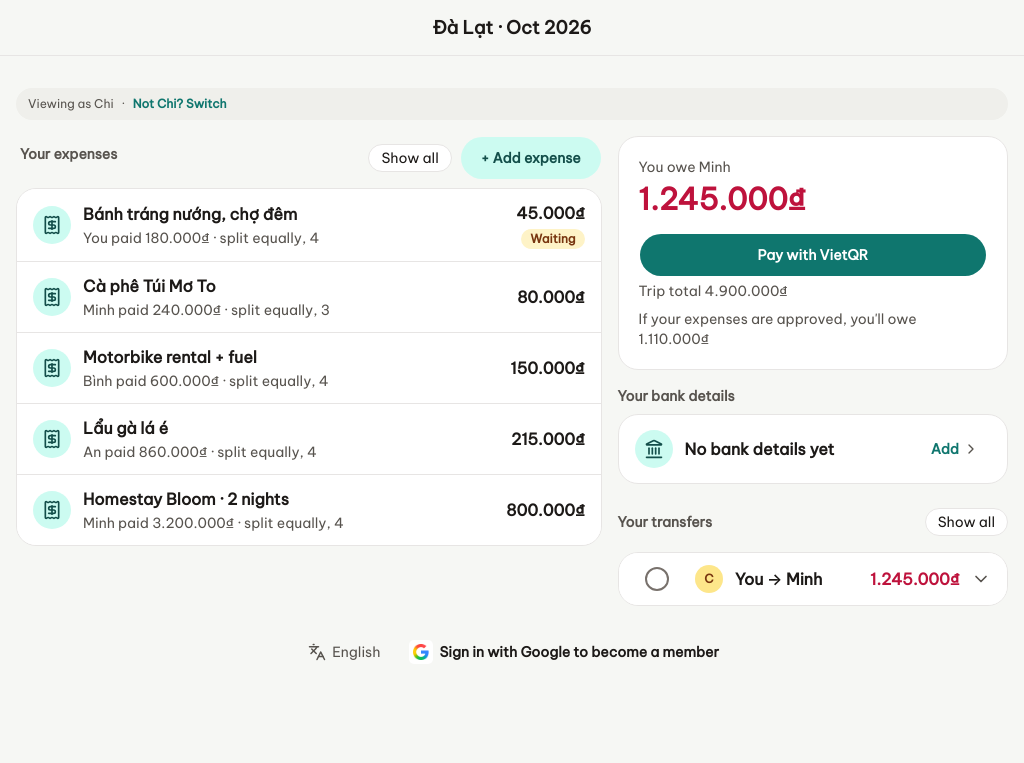
Test: guest page on a wide screen › an expense opens in the right panel, and × brings the balance back
Click the button "Bánh tráng nướng, chợ đêm": (52, 225) top-left (17, 189), bottom-right (601, 261)
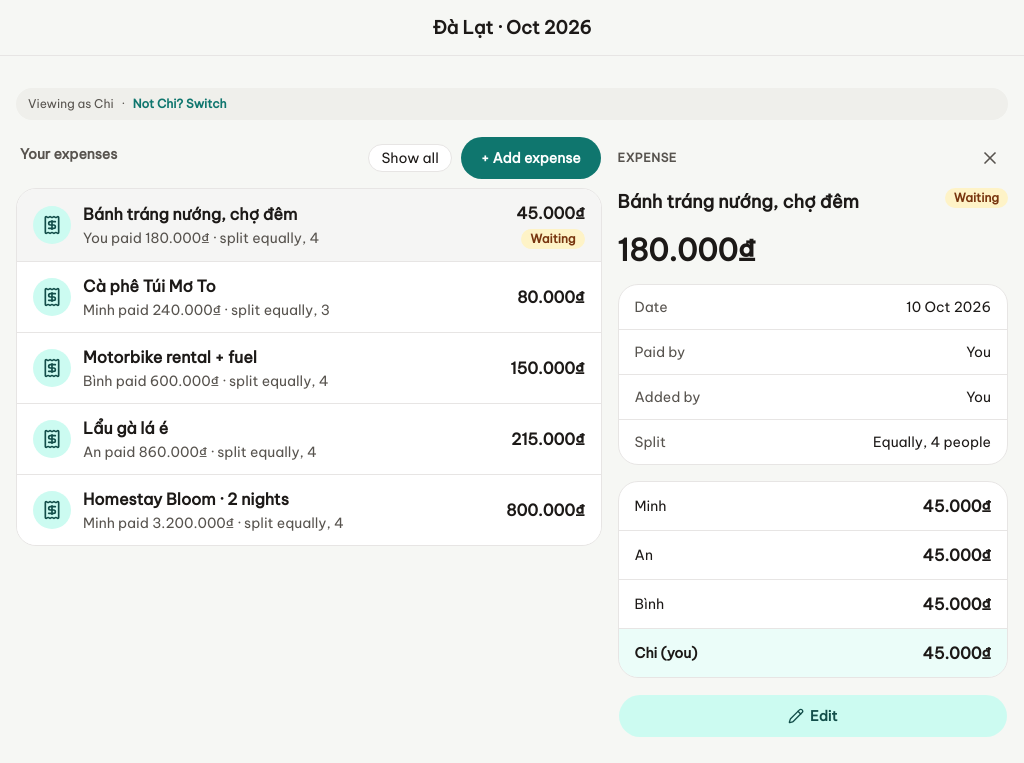
Result: the text "You owe Minh" is gone
Result: the button "Edit" is shown at top-left (618, 694), bottom-right (1008, 738)
Result: the link "Pay with VietQR" is gone
Click the button named "Close": (990, 158) top-left (968, 136), bottom-right (1012, 180)
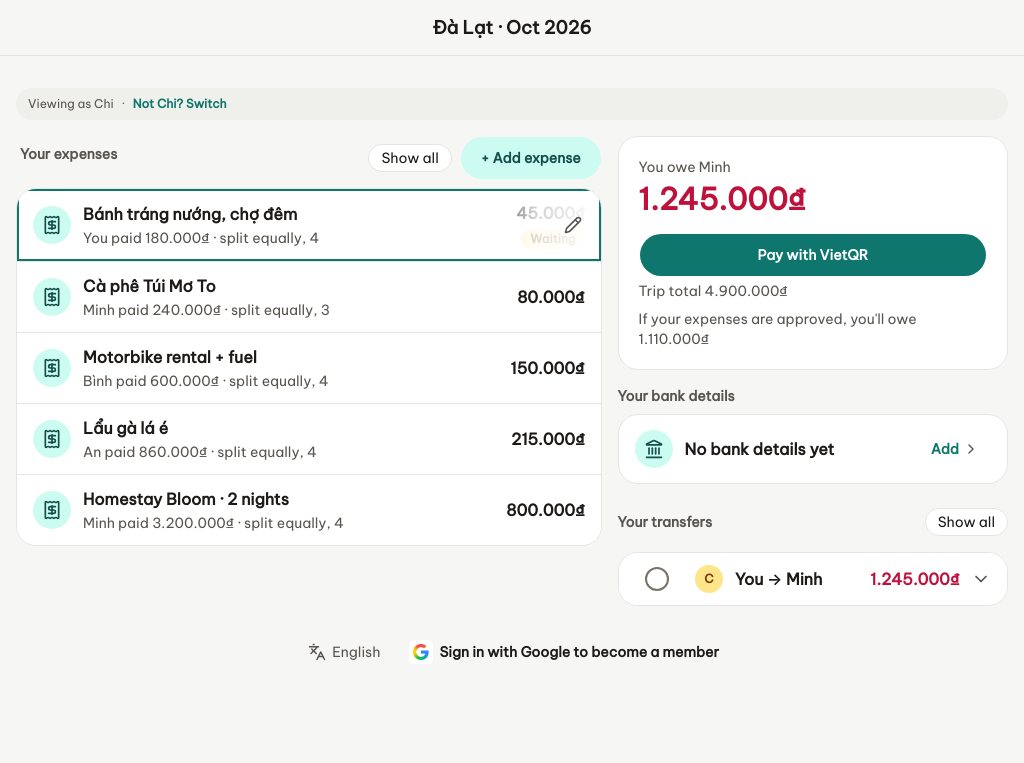
Result: the text "You owe Minh" is shown at top-left (639, 157), bottom-right (731, 177)
